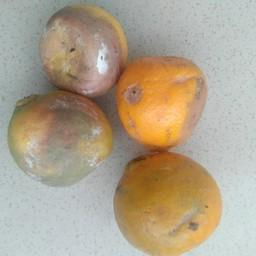Bad_orange: (112, 150, 226, 255), (6, 92, 114, 186), (116, 43, 197, 152), (38, 5, 123, 95)
